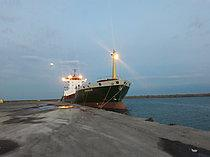Ship: (58, 48, 135, 113)
